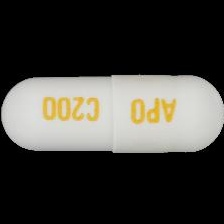61786-779: (0, 0, 224, 224)
